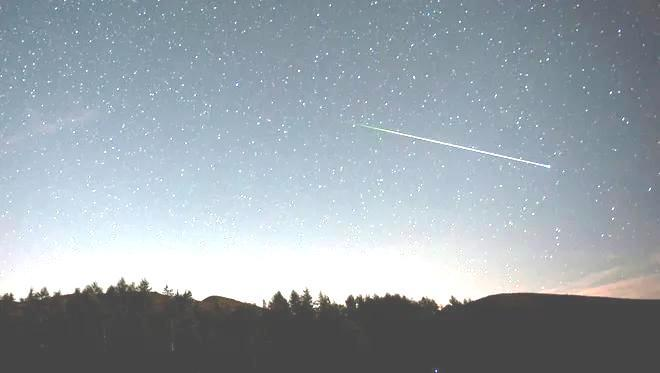meteorite: (341, 116, 556, 171)
